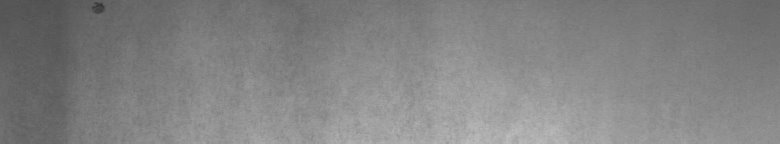fi: (90, 4, 109, 20)
